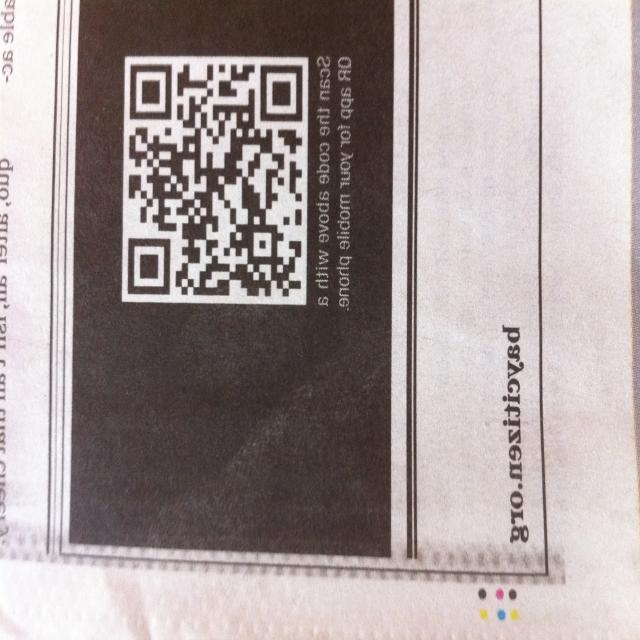qr-code: (128, 64, 302, 297)
